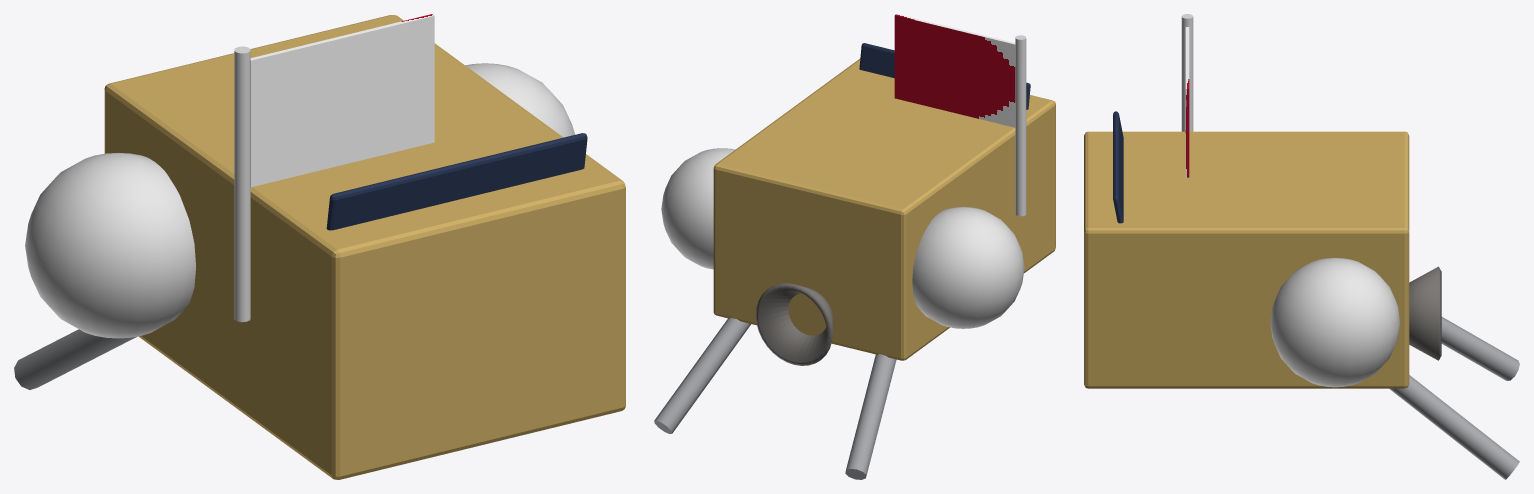
Rendered from mission-slim.glb.
3 renders of one model, left to right at view 1: azimuth 30°, elevation 25°; view 2: azimuth 150°, elevation 25°; view 3: azimuth 270°, elevation 25°, orthographic. The views are drawn at different scales.
Parts seen in each view (by area): view 1: bus, tank_-1, flagcloth, panel, flagpole, leg_1, tank_1; view 2: bus, tank_-1, flagcloth, tank_1, nozzle, leg_0, leg_1, flagpole, panel; view 3: bus, tank_1, leg_0, nozzle, leg_1, flagpole, panel, flagcloth.
Part boxes in pixels (box(x1,y1,x2,y2)): bus: box(104, 15, 625, 479); tank_-1: box(25, 152, 195, 338); flagcloth: box(250, 14, 434, 187); panel: box(326, 133, 587, 230); flagpole: box(234, 46, 250, 322); leg_1: box(14, 329, 136, 389); tank_1: box(465, 63, 575, 137); bus: box(713, 58, 1055, 360); tank_-1: box(912, 207, 1024, 328); flagcloth: box(894, 14, 1015, 127); tank_1: box(661, 148, 735, 269); nozzle: box(755, 283, 833, 365); leg_0: box(654, 318, 750, 433); leg_1: box(845, 354, 896, 479); flagpole: box(1015, 35, 1026, 216); panel: box(859, 43, 1030, 109); bus: box(1084, 131, 1409, 388); tank_1: box(1270, 258, 1400, 387); leg_0: box(1389, 375, 1519, 479); nozzle: box(1409, 266, 1441, 360); leg_1: box(1441, 317, 1519, 380); flagpole: box(1181, 14, 1193, 131); panel: box(1113, 111, 1123, 223); flagcloth: box(1185, 27, 1189, 177).
Size of the model in its own units: 1.8 by 1.66 by 1.84.
Materials: 6 (1 with a texture image).
